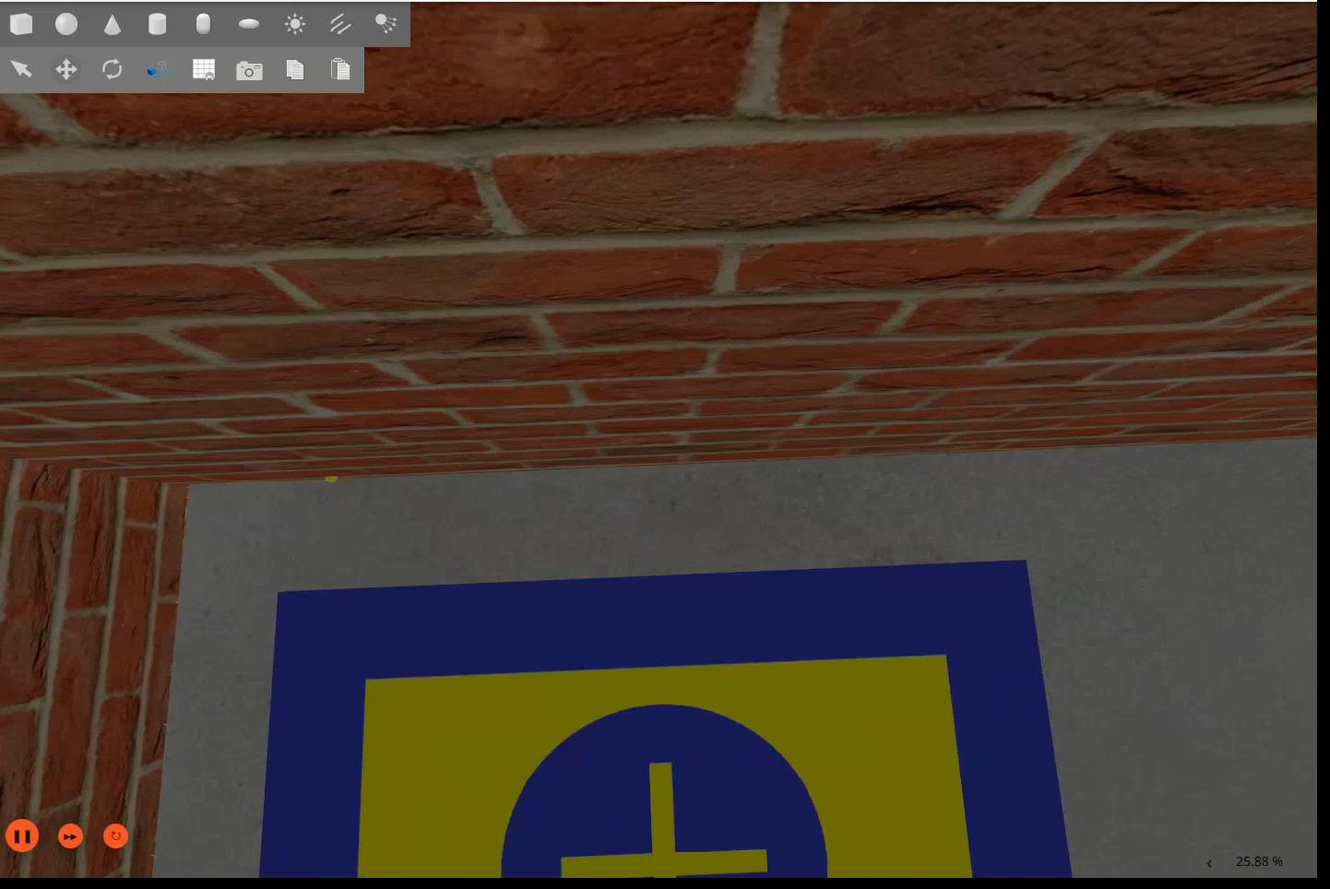large_base: (262, 562, 1072, 883)
